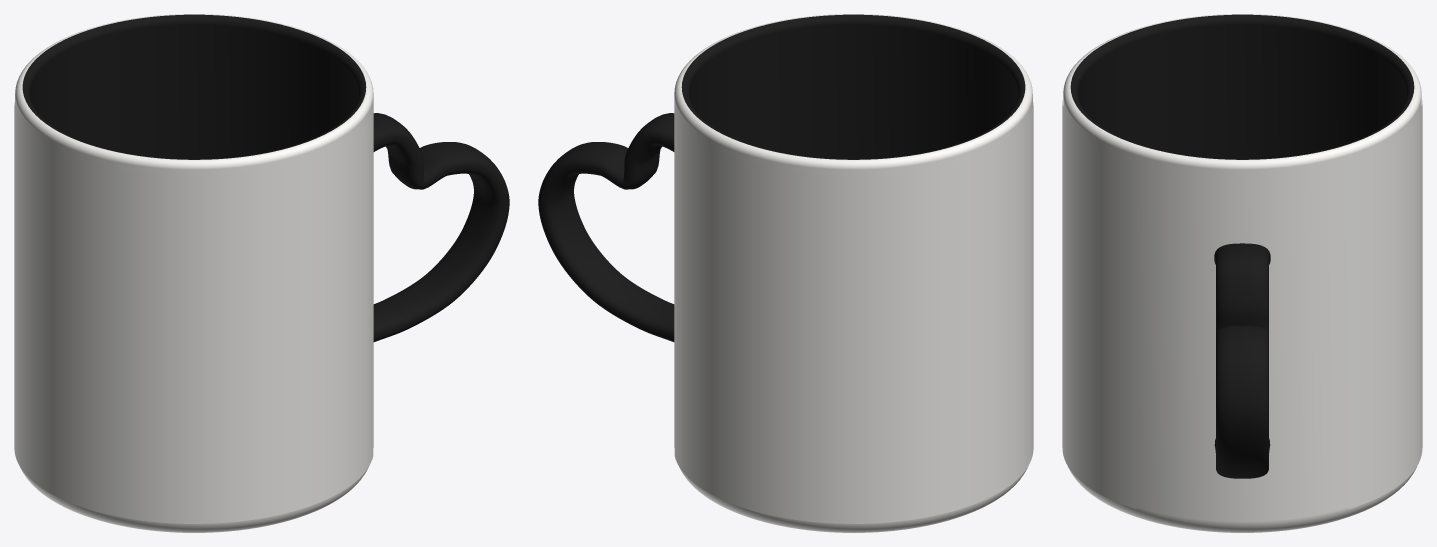
File: caneca_coracao.glb
The picture shows the model from 3 angles, left to right: view 1: azimuth 30°, elevation 25°; view 2: azimuth 150°, elevation 25°; view 3: azimuth 270°, elevation 25°; orthographic projection.
Parts seen in each view (by area): view 1: Area_Arte, Interior_Caneca, Alca_Coracao, Corpo_Externo; view 2: Area_Arte, Interior_Caneca, Alca_Coracao, Corpo_Externo; view 3: Corpo_Externo, Area_Arte, Interior_Caneca, Alca_Coracao.
Boxes of the visible parts, left/top/right/bottom form: Area_Arte: left=14, top=102, right=373, bottom=523; Interior_Caneca: left=22, top=14, right=366, bottom=159; Alca_Coracao: left=373, top=113, right=509, bottom=341; Corpo_Externo: left=15, top=14, right=373, bottom=532; Area_Arte: left=674, top=102, right=1033, bottom=523; Interior_Caneca: left=681, top=14, right=1025, bottom=159; Alca_Coracao: left=538, top=113, right=674, bottom=341; Corpo_Externo: left=674, top=14, right=1032, bottom=532; Corpo_Externo: left=1063, top=14, right=1421, bottom=532; Area_Arte: left=1062, top=100, right=1422, bottom=508; Interior_Caneca: left=1070, top=14, right=1414, bottom=159; Alca_Coracao: left=1214, top=243, right=1270, bottom=478.
Bounding box in the file's own units: 0.1224 × 0.095 × 0.0824.
3 materials, 1 textured.
